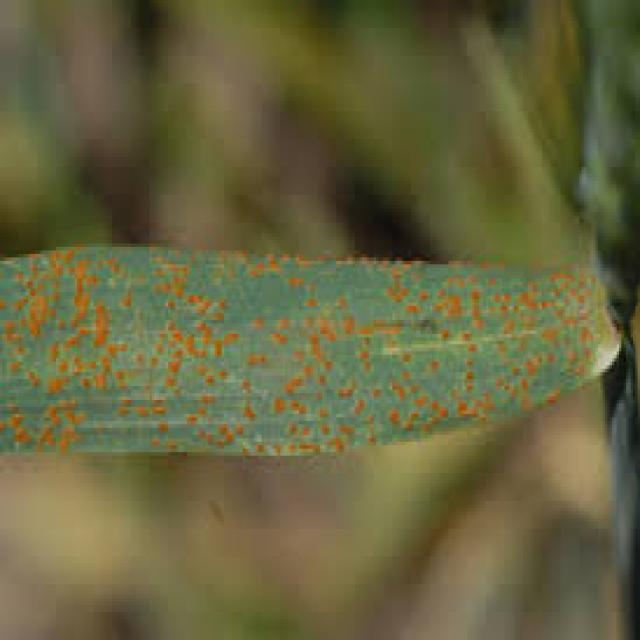leaf rust: (2, 257, 608, 449)
